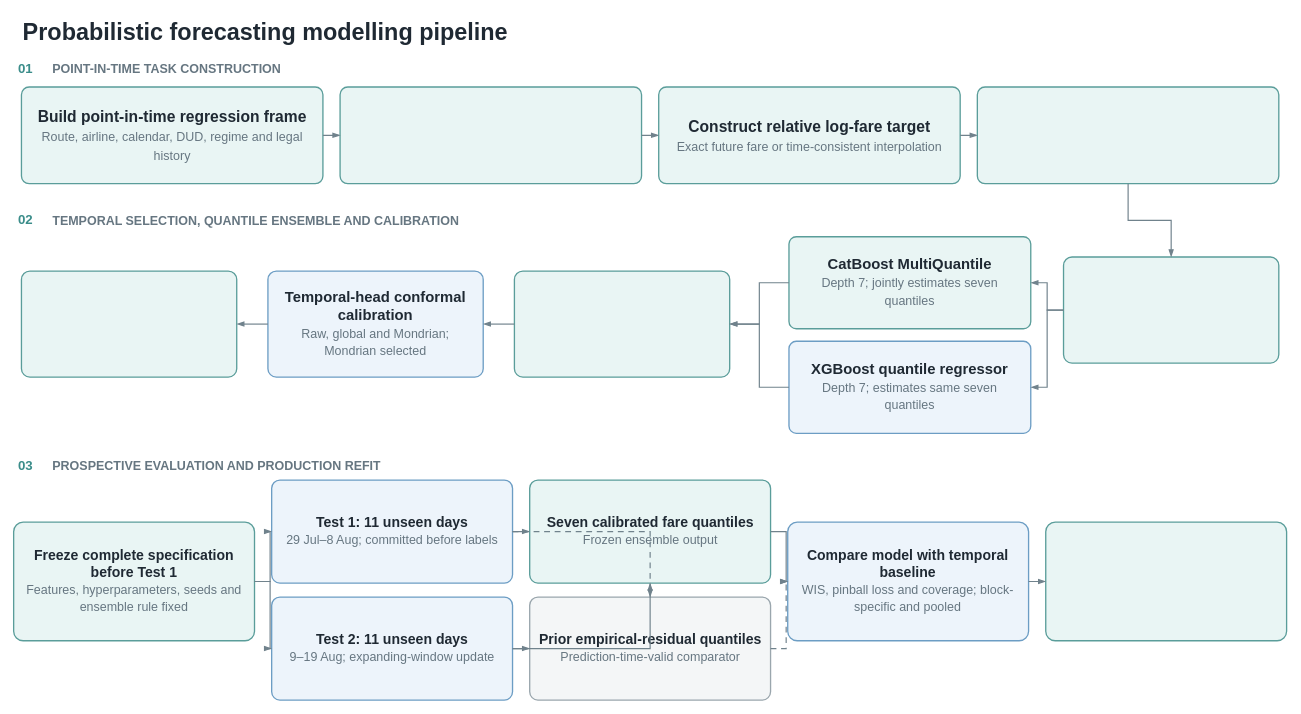
The diagram is 1301 pixels wide and 714 high, and some of its shapes have lost their labels. The centre of each missing label's shape, as x and y in pixels:
"128-day rolling-origin validation Screen F02–F04; validate F05–F06 by WIS" goes at (x=1171, y=309).
"Calculate strictly prior fare anchor Reference available before prediction time" goes at (x=490, y=135).
"Enforce coherent quantile order Regime × DUD offsets + monotone rearrangement" goes at (x=128, y=323).
"Equal-weight mean of six fitted members Two finalists × three random seeds" goes at (x=621, y=323).
"Final production refit Same recipe refitted through 19 Aug; no reselection" goes at (x=1166, y=581).
"Specify seven conditional quantiles q05, q10, q25, q50, q75, q90 and q95" goes at (x=1127, y=135).
